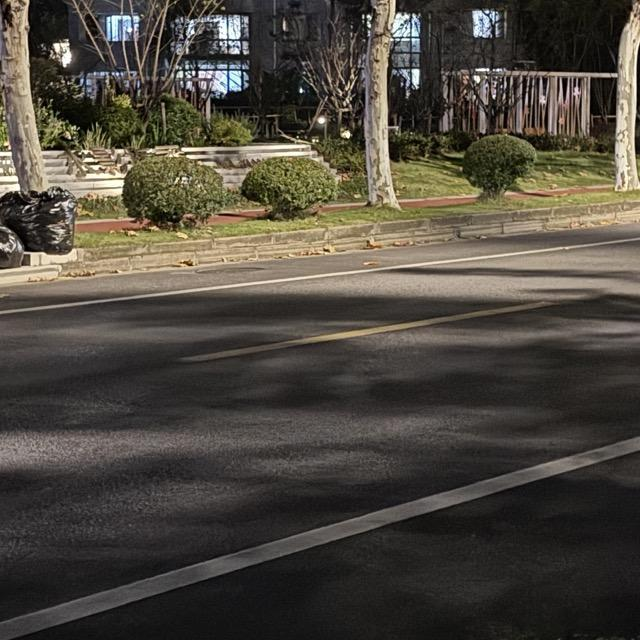curb: (0, 199, 639, 286)
